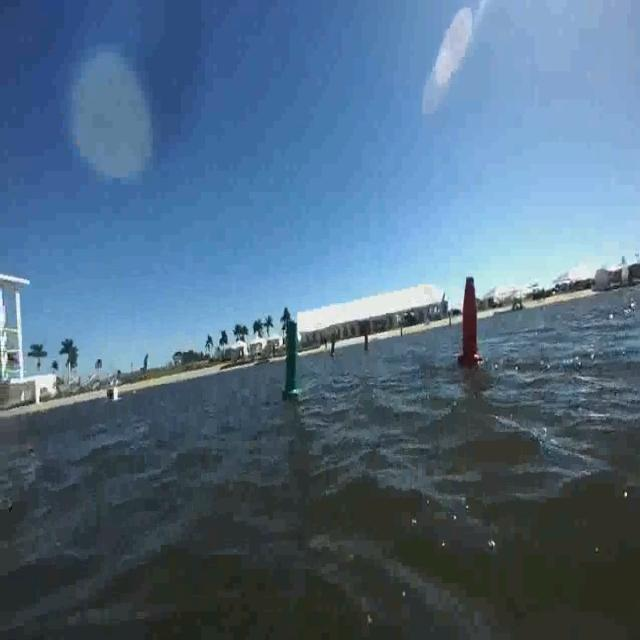green-column-buoy: (281, 308, 302, 399)
red-column-buoy: (458, 272, 480, 366)
